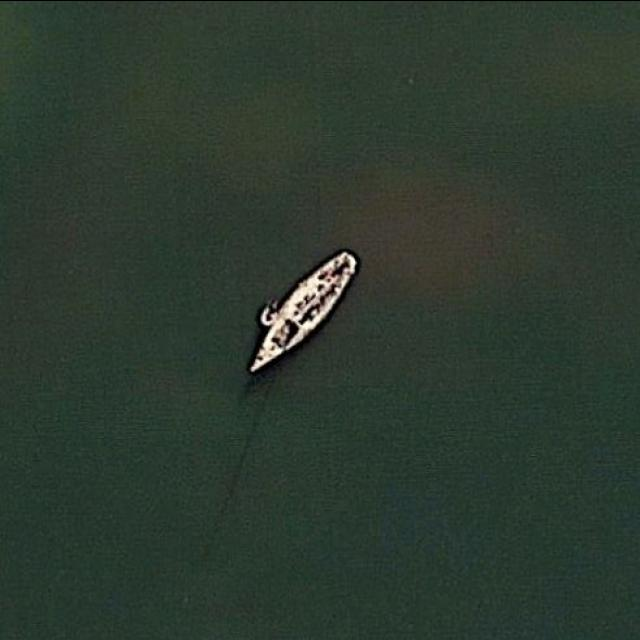ship: (238, 246, 362, 382)
